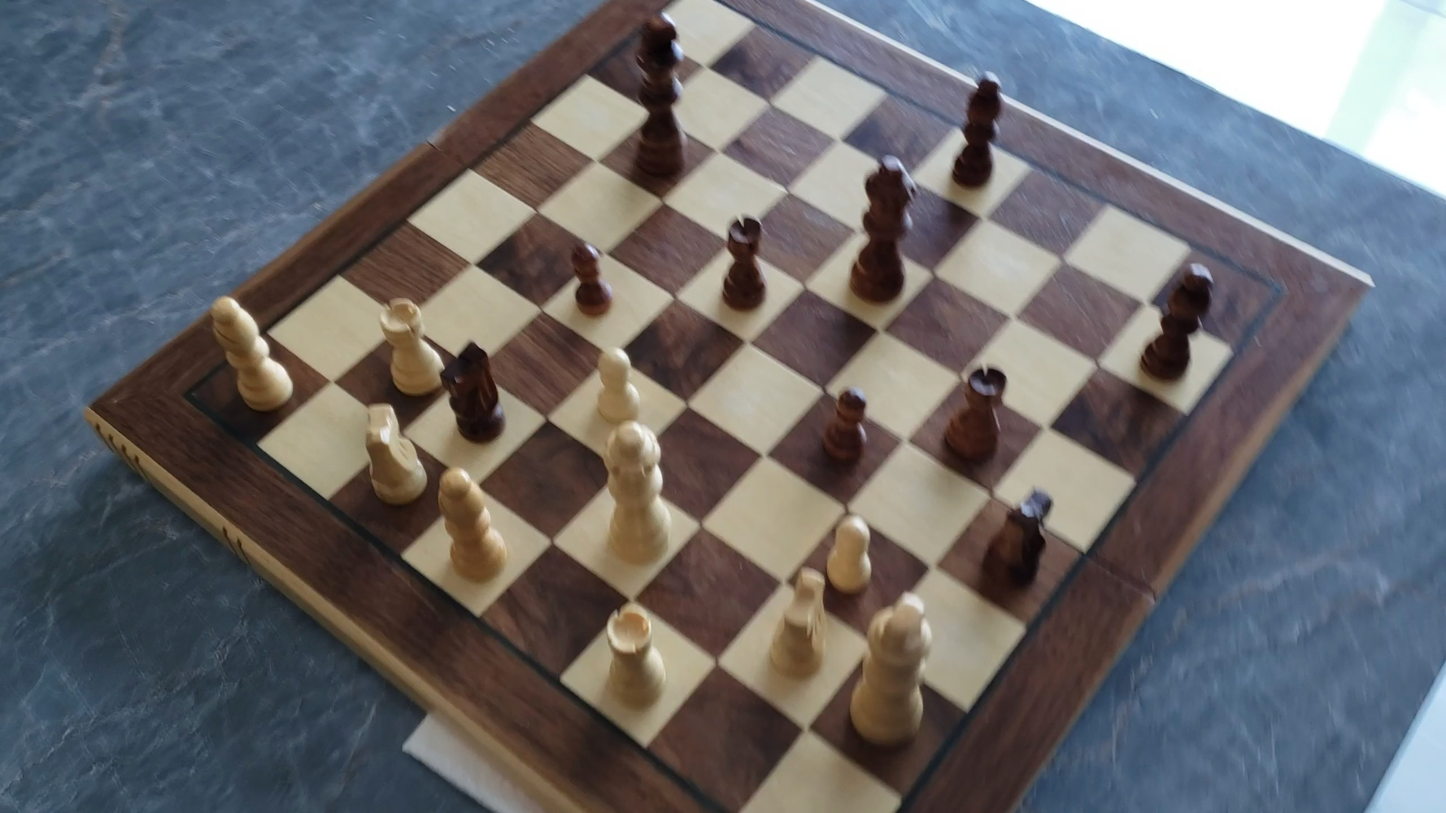black-bishop: (1138, 260, 1218, 383), (950, 69, 1012, 202)
black-king: (619, 10, 698, 184)
black-knight: (968, 484, 1060, 604), (439, 336, 507, 444)
black-pawn: (818, 384, 870, 467), (566, 237, 613, 319)
black-queen: (850, 156, 923, 311)
black-rook: (940, 362, 1010, 467), (718, 212, 769, 313)
white-bishop: (204, 291, 297, 417), (434, 464, 512, 586)
white-king: (844, 589, 938, 757)
white-knight: (763, 565, 833, 683), (358, 401, 430, 510)
white-pawn: (590, 341, 645, 428), (828, 510, 876, 595)
white-queen: (601, 419, 676, 563)
white-rook: (598, 600, 672, 714), (377, 294, 445, 399)
